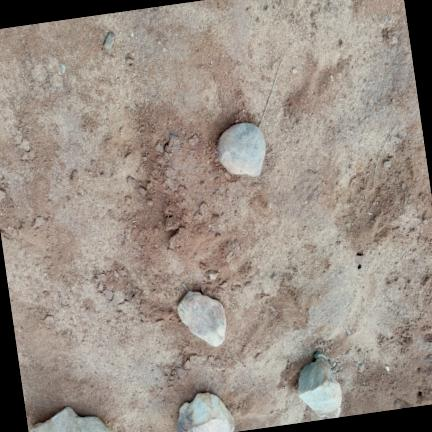Rocks: (298, 356, 341, 417), (178, 291, 226, 345), (217, 122, 265, 175), (177, 392, 234, 431), (30, 406, 110, 431), (169, 226, 187, 247), (104, 31, 115, 51), (70, 169, 78, 183), (188, 134, 199, 144), (33, 216, 44, 226), (208, 269, 217, 279), (44, 314, 54, 323), (155, 143, 164, 152), (127, 175, 135, 184), (60, 62, 66, 73), (124, 195, 132, 203), (0, 188, 5, 200), (384, 159, 391, 167), (139, 187, 146, 195), (126, 56, 134, 62), (147, 198, 153, 205), (359, 363, 364, 371), (292, 67, 297, 72)
